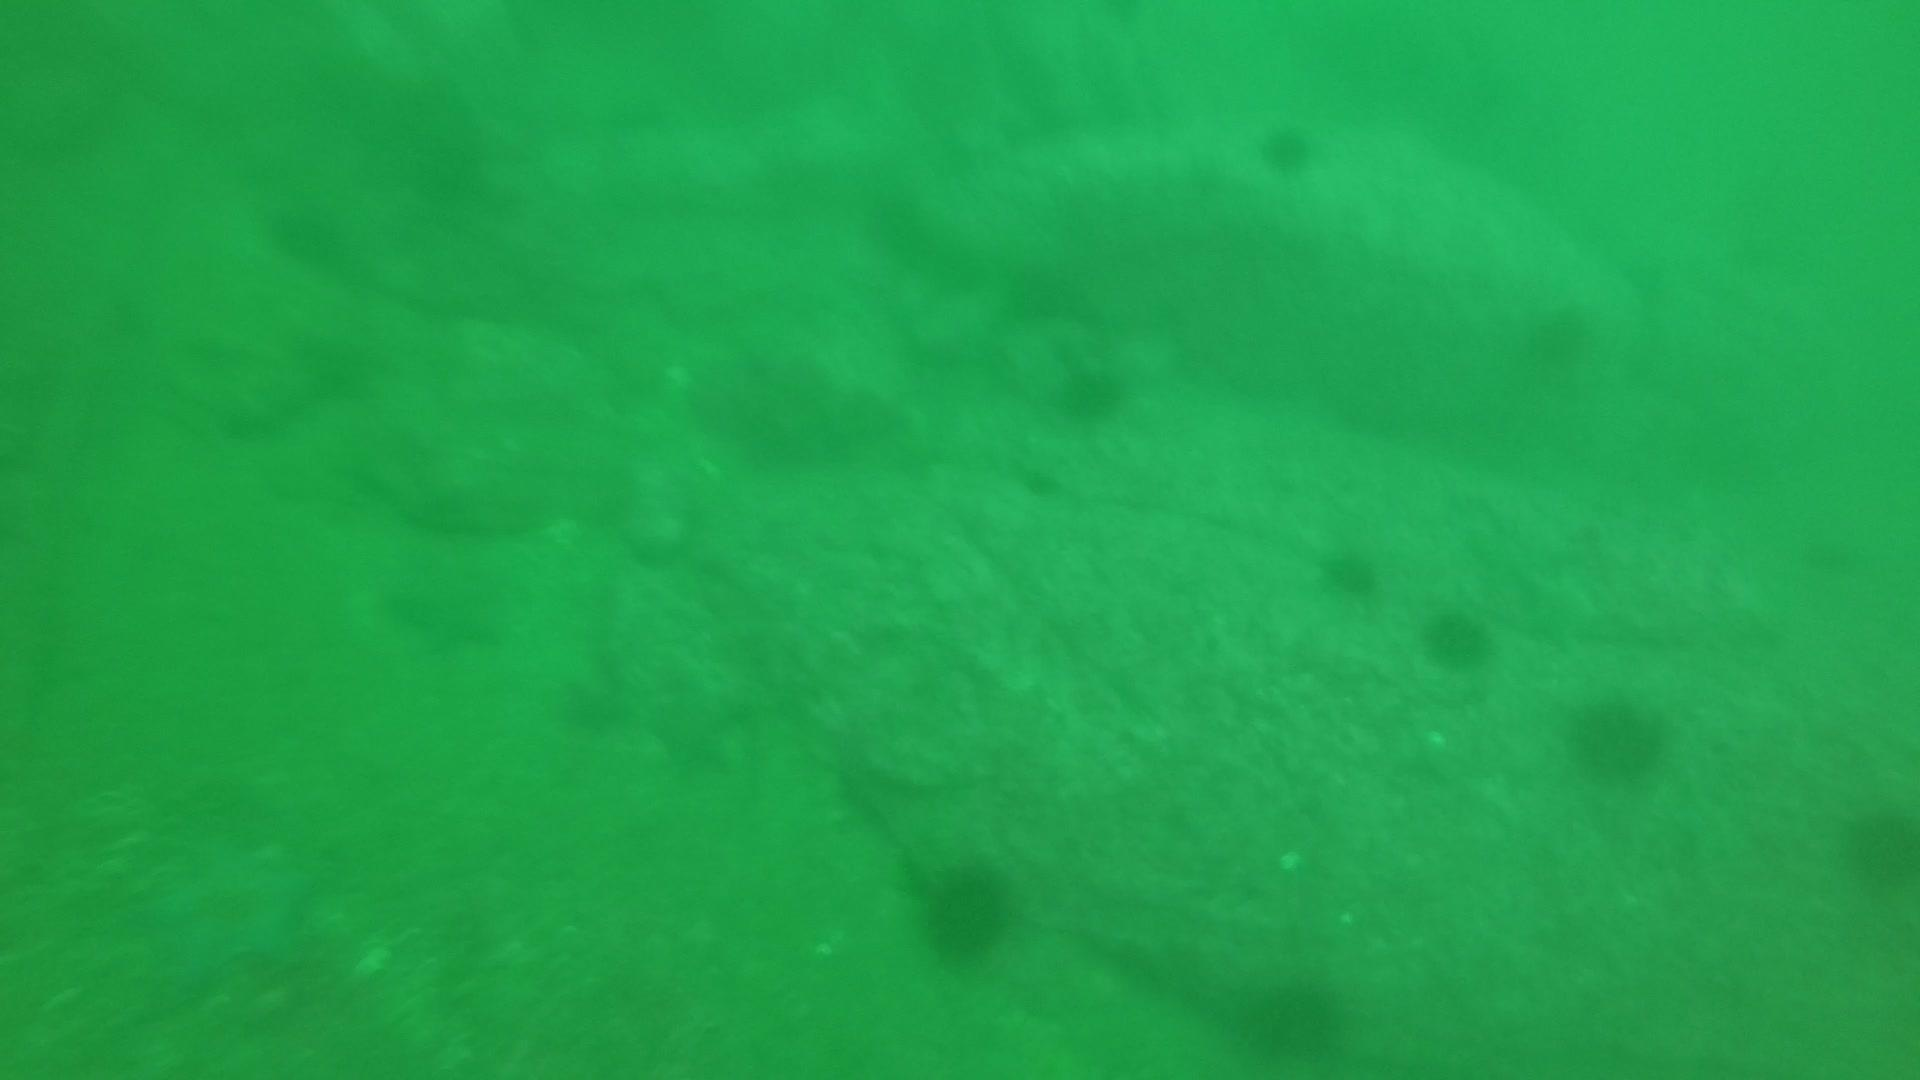echinus: (913, 852, 1022, 967), (1232, 968, 1352, 1065), (1561, 684, 1673, 785), (1834, 794, 1917, 894), (261, 191, 353, 270), (1516, 294, 1600, 373), (1048, 353, 1134, 427), (1418, 600, 1499, 675), (1313, 538, 1385, 603), (1253, 116, 1321, 178)
starfish: (135, 833, 318, 986)
